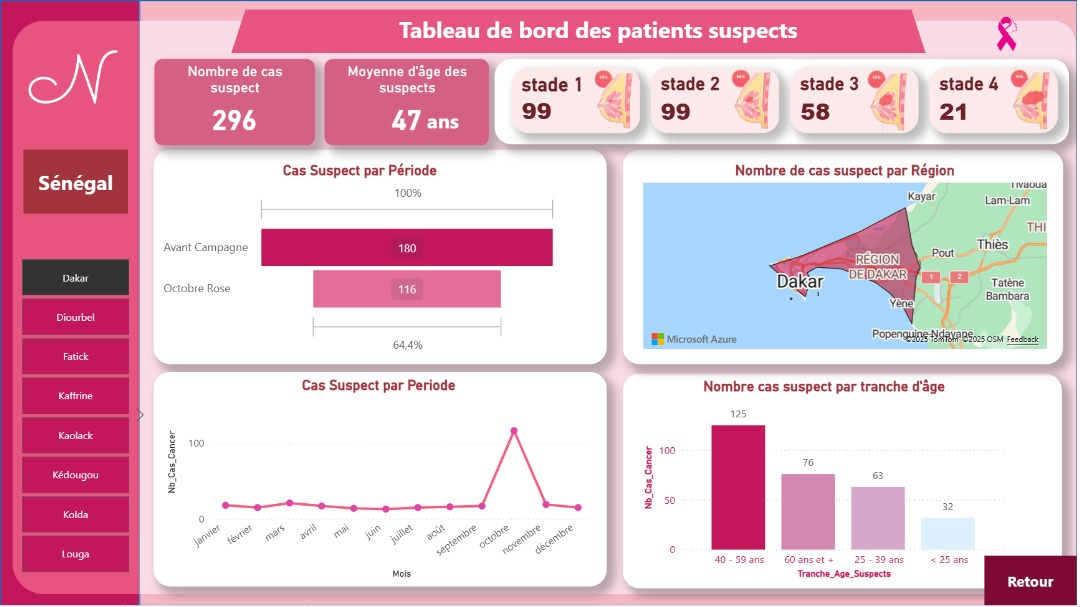

The page's visual inventory and layout, read from the dashboard file:
{"tool":"powerbi","page":{"name":"Répartition des cas suspects","canvas":[1280,720],"ordinal":1},"visuals":[{"type":"shape","box":[0,0,1280.5,720.6],"z":0},{"type":"shape","box":[0,0,165.6,720.6],"z":1000},{"type":"shape","box":[165.6,0,1114.8,720.6],"z":2000},{"type":"shape","box":[165.6,24.8,1113.2,682.5],"z":3000},{"type":"shape","box":[14.9,24.8,150.7,682.5],"z":4000},{"type":"shape","box":[182.2,177.2,538.4,255.1],"z":5000},{"type":"shape","box":[182.2,442.3,538.4,255.1],"z":6000},{"type":"shape","box":[740.4,443.9,521.8,255.1],"z":7000},{"type":"shape","box":[740.4,177.2,523.4,255.1],"z":8000},{"type":"card","title":"Nombre de cas suspect","fields":{"Values":["DataRose.Nb_Cas_Cancer"]},"box":[183.9,69.6,190.5,102.7],"z":9000},{"type":"card","title":"Moyenne d''âge des suspects","fields":{"Values":["DataRose.moyenne_age_suspect"]},"box":[386,69.6,195.5,102.7],"z":10000},{"type":"funnel","title":"Cas Suspect par Période","fields":{"Y":["DataRose.Nb_Cas_Cancer"],"Category":["DataRose.Période"]},"box":[189.3,192.6,477.6,233.1],"z":11000},{"type":"columnChart","title":"Nombre cas suspect par tranche d''âge","fields":{"Category":["DataRose.Tranche_Age_Suspects"],"Y":["DataRose.Nb_Cas_Cancer"]},"box":[760.3,448.9,439,243.5],"z":12000},{"type":"lineChart","title":"Cas Suspect par Periode","fields":{"Y":["DataRose.Nb_Cas_Cancer"],"Category":["DataRose.Date_dépistage.Variation.Hiérarchie de dates.Mois"]},"box":[193.8,447.2,513.5,245.2],"z":13000},{"type":"shape","box":[274.7,10.8,825.8,52.1],"z":14000},{"type":"textbox","box":[468.8,11.6,501.9,51.4],"z":15000},{"type":"slicer","fields":{"Values":["DataRose.Région"]},"box":[0,301.5,177.2,386],"z":16000},{"type":"azureMap","title":"Nombre de cas suspect par Région","fields":{"Category":["DataRose.Région"]},"box":[758.7,192.2,490.3,226.9],"z":17000},{"type":"textbox","box":[501.9,120.9,72.9,44.7],"z":18000},{"type":"actionButton","box":[1169.5,660.9,109.3,59.6],"z":19000},{"type":"actionButton","box":[28.2,177.2,124.2,76.2],"z":20000},{"type":"image","box":[14.9,0,144.1,195.5],"z":21000},{"type":"image","box":[1144.6,0,109.3,74.5],"z":22000},{"type":"shape","box":[588.1,69.6,682.5,101],"z":23000},{"type":"PBI_CV_7B952816_A48F_49B4_9E13_15E3BB2C0337","title":"stade 1","fields":{"Values":["DataRose.Nb_Stade1_Suspect"]},"box":[607.9,79.5,152.4,77.9],"z":24000},{"type":"image","box":[670.7,75.8,115.4,85],"z":25000},{"type":"PBI_CV_7B952816_A48F_49B4_9E13_15E3BB2C0337","title":"stade 2","fields":{"Values":["DataRose.Nb_Stade1_Suspect"]},"box":[773.6,79.5,152.4,77.9],"z":26000},{"type":"PBI_CV_7B952816_A48F_49B4_9E13_15E3BB2C0337","title":"stade 3","fields":{"Values":["DataRose.Nb_Stade3_Suspect"]},"box":[939.2,79.5,152.4,77.9],"z":27000},{"type":"PBI_CV_7B952816_A48F_49B4_9E13_15E3BB2C0337","title":"stade 4","fields":{"Values":["DataRose.Nb_Stade4_Suspect"]},"box":[1104.9,79.5,152.4,77.9],"z":28000},{"type":"image","box":[843.1,75.8,102.6,86.2],"z":29000},{"type":"image","box":[1005.5,75.8,92.6,87.5],"z":30000},{"type":"image","box":[1170.8,77,99.7,88.7],"z":31000}]}

Visuals, with their boxes in screenshot pixels (x1, y1, x2, y2), scaled from the page's 1280x720 canvas onto the 1080x607 screenshot:
shape: locate(0, 0, 1079, 606)
shape: locate(0, 0, 140, 606)
shape: locate(140, 0, 1079, 606)
shape: locate(140, 21, 1079, 596)
shape: locate(13, 21, 140, 596)
shape: locate(154, 149, 608, 364)
shape: locate(154, 373, 608, 588)
shape: locate(625, 374, 1065, 589)
shape: locate(625, 149, 1066, 364)
"Nombre de cas suspect" card: locate(155, 59, 316, 145)
"Moyenne d''âge des suspects" card: locate(326, 59, 491, 145)
"Cas Suspect par Période" funnel: locate(160, 162, 563, 359)
"Nombre cas suspect par tranche d''âge" columnChart: locate(642, 378, 1012, 584)
"Cas Suspect par Periode" lineChart: locate(164, 377, 597, 584)
shape: locate(232, 9, 929, 53)
textbox: locate(396, 10, 819, 53)
slicer - DataRose.Région: locate(0, 254, 150, 580)
"Nombre de cas suspect par Région" azureMap: locate(640, 162, 1054, 353)
textbox: locate(423, 102, 485, 140)
actionButton: locate(987, 557, 1079, 606)
actionButton: locate(24, 149, 129, 214)
image: locate(13, 0, 134, 165)
image: locate(966, 0, 1058, 63)
shape: locate(496, 59, 1072, 144)
"stade 1" PBI_CV_7B952816_A48F_49B4_9E13_15E3BB2C0337: locate(513, 67, 642, 133)
image: locate(566, 64, 663, 136)
"stade 2" PBI_CV_7B952816_A48F_49B4_9E13_15E3BB2C0337: locate(653, 67, 781, 133)
"stade 3" PBI_CV_7B952816_A48F_49B4_9E13_15E3BB2C0337: locate(792, 67, 921, 133)
"stade 4" PBI_CV_7B952816_A48F_49B4_9E13_15E3BB2C0337: locate(932, 67, 1061, 133)
image: locate(711, 64, 798, 137)
image: locate(848, 64, 927, 138)
image: locate(988, 65, 1072, 140)
